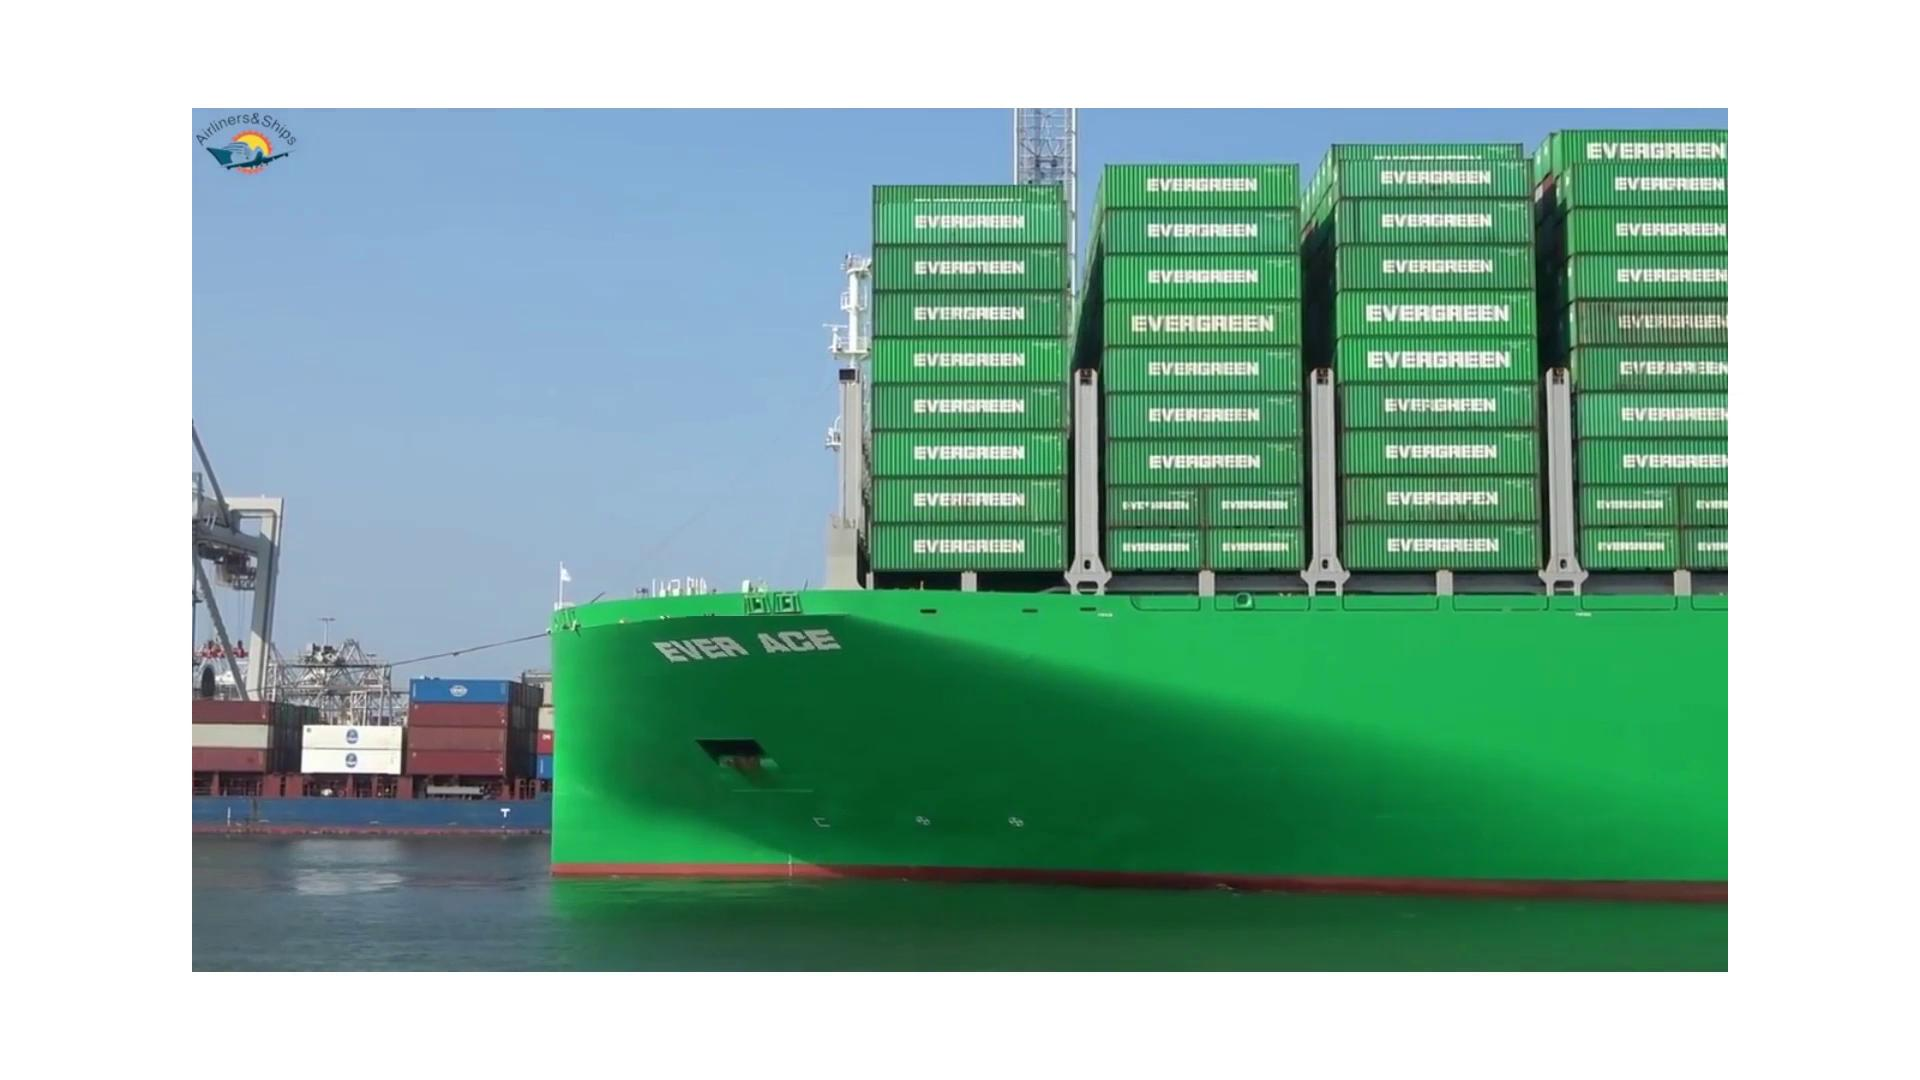OCR: (629, 616, 844, 676)
